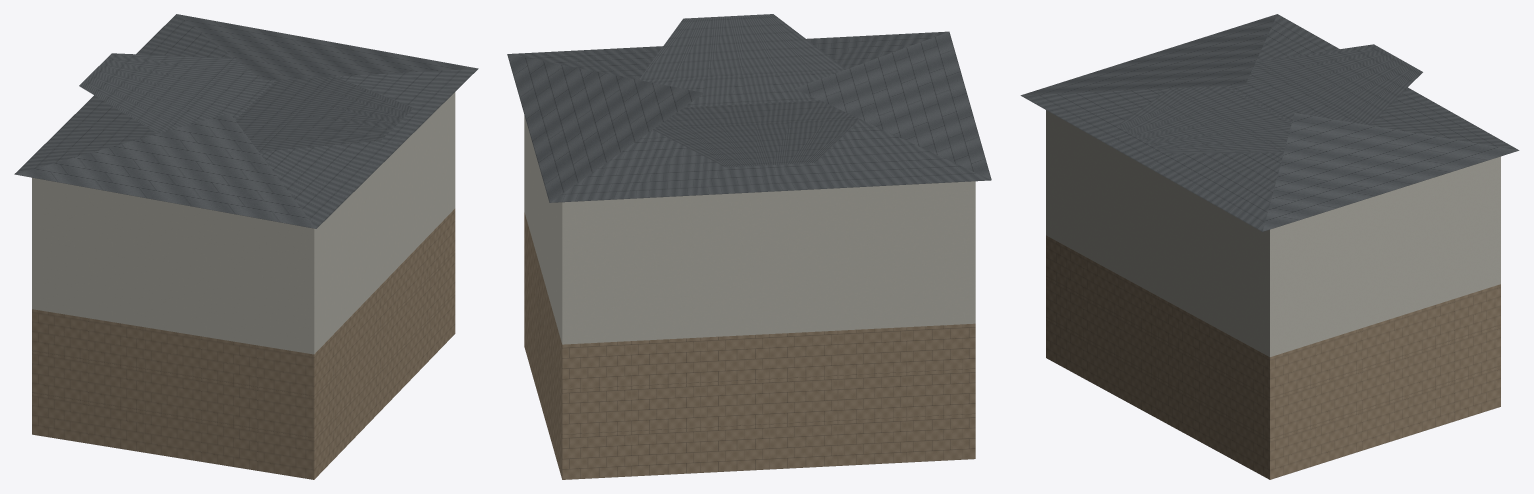
File: bld_c8_17_437.gltf
3 renders of one model, left to right at view 1: azimuth 30°, elevation 25°; view 2: azimuth 150°, elevation 25°; view 3: azimuth 270°, elevation 25°, orthographic. The views are drawn at different scales.
Parts seen in each view (by area): view 1: bld_c8_17_437; view 2: bld_c8_17_437; view 3: bld_c8_17_437.
Boxes of the visible parts, x1,y1,x2,y2 form: bld_c8_17_437: (14, 14, 478, 479); bld_c8_17_437: (507, 14, 991, 479); bld_c8_17_437: (1020, 14, 1519, 479).
Size of the model in its own units: 19.44 by 11.7 by 18.81.
3 materials, 3 textured.
